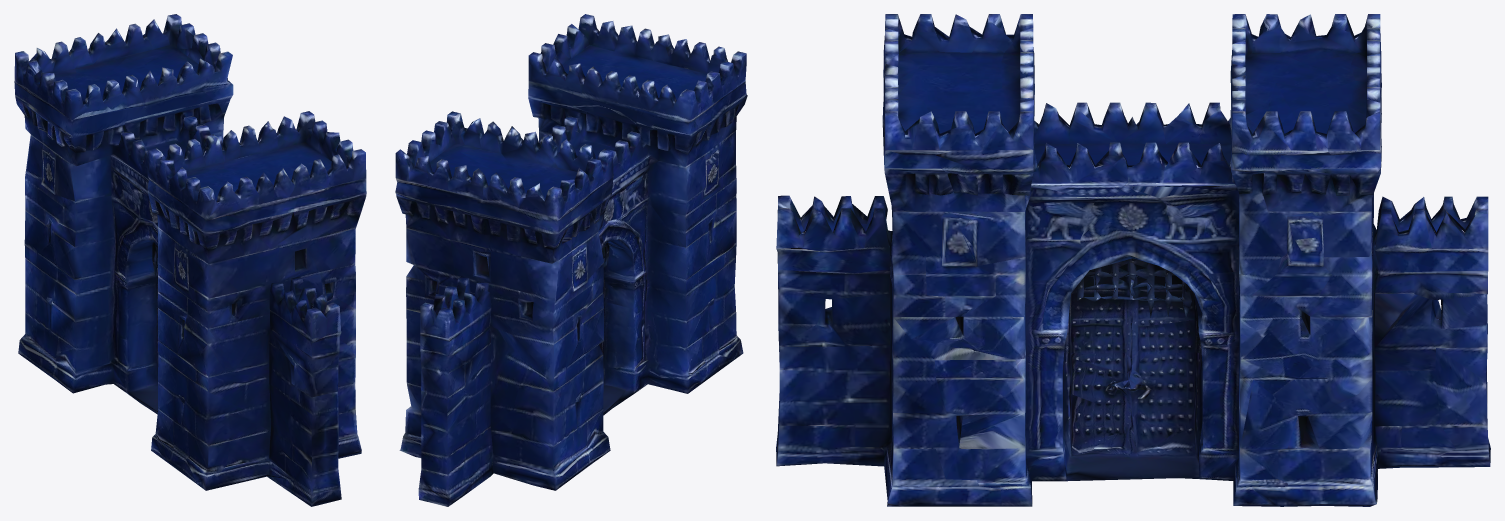
File: castle_gate_diamond_blue.glb
3 renders of one model, left to right at view 1: azimuth 30°, elevation 25°; view 2: azimuth 150°, elevation 25°; view 3: azimuth 270°, elevation 25°, orthographic. The views are drawn at different scales.
Visible parts, largest first — view 1: tripo_node_0a6a371f-e985-4717-9263-0b98bedda75f; view 2: tripo_node_0a6a371f-e985-4717-9263-0b98bedda75f; view 3: tripo_node_0a6a371f-e985-4717-9263-0b98bedda75f.
Boxes of the visible parts, x1,y1,x2,y2 form: tripo_node_0a6a371f-e985-4717-9263-0b98bedda75f: (14,14,366,506); tripo_node_0a6a371f-e985-4717-9263-0b98bedda75f: (395,14,747,506); tripo_node_0a6a371f-e985-4717-9263-0b98bedda75f: (776,14,1490,506).
Size of the model in its own units: 0.3373 by 0.5934 by 0.9777.
1 material, 1 textured.
